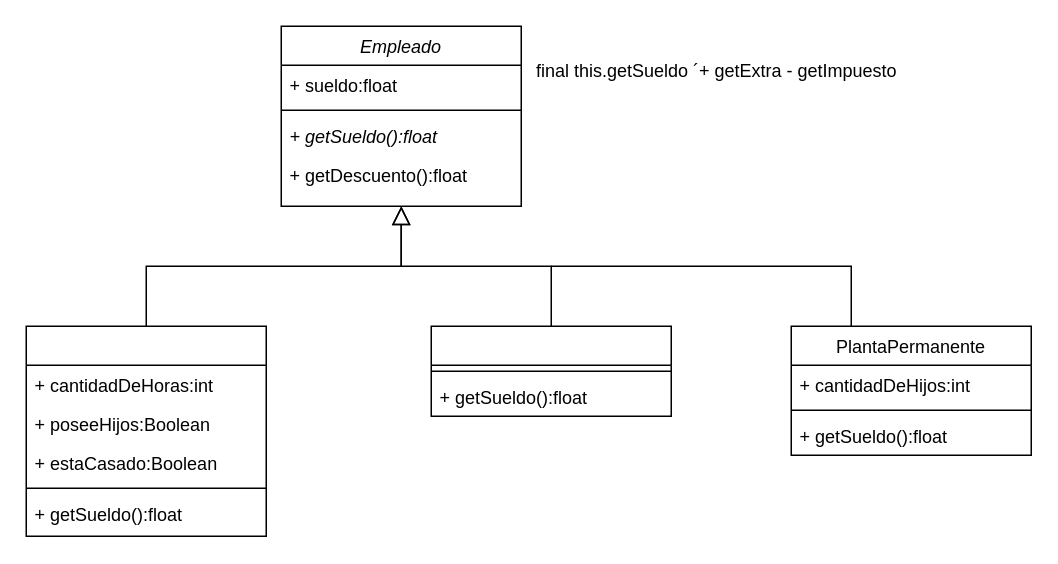
This 1058x564 diagram has some shape labels left out. Each missing label, with the box of its shape:
Pasante: (430, 325, 671, 416)
Temporario: (25, 325, 266, 536)
